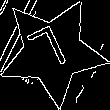L_SE: (28, 22, 77, 81)
